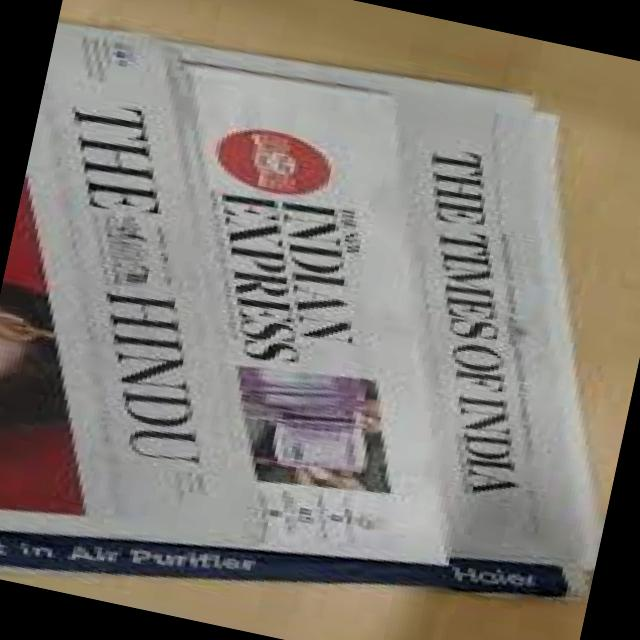paper: (0, 2, 567, 601)
